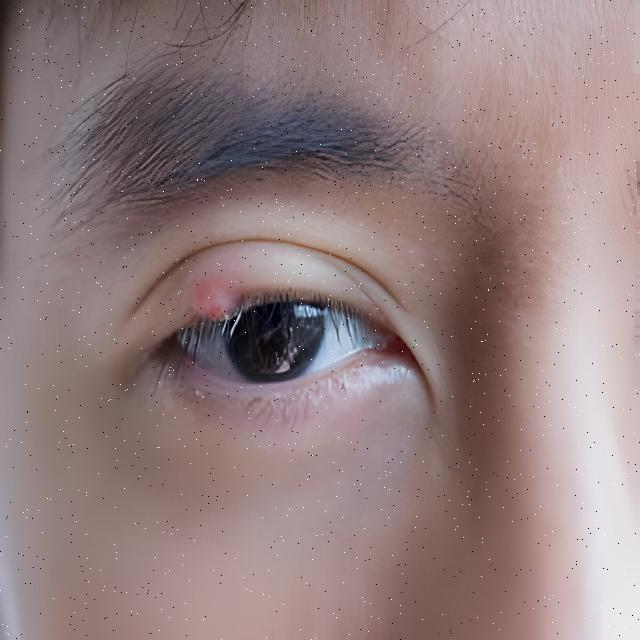Stye: (167, 255, 280, 363)
